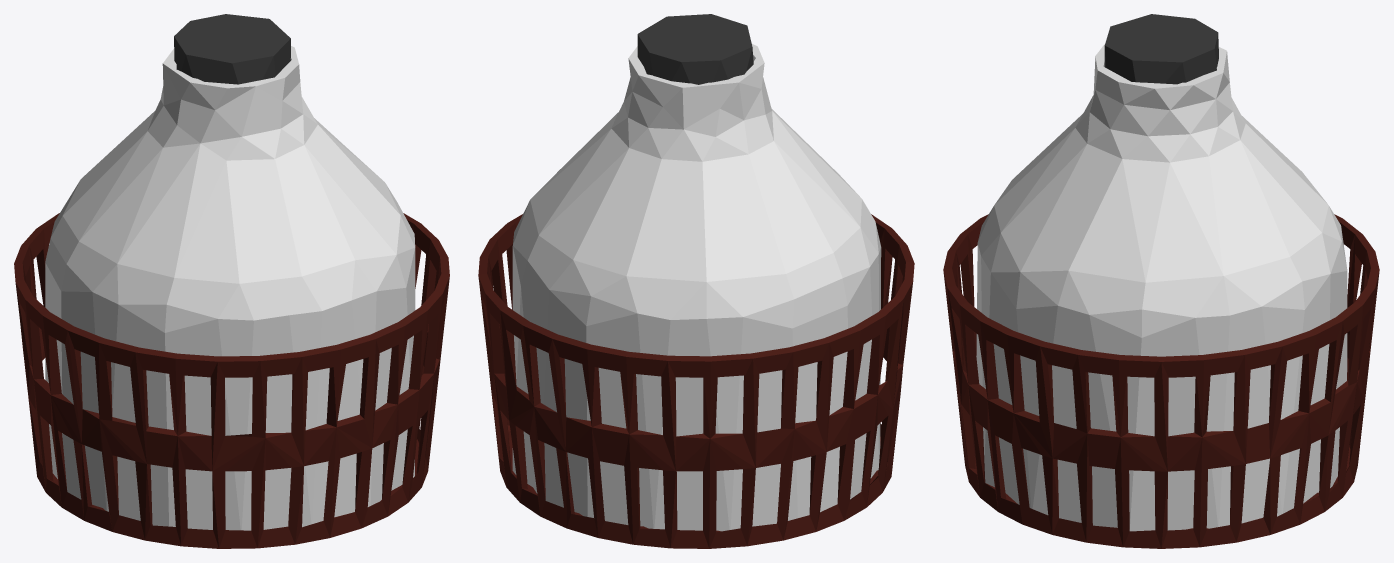
The model's file is Bottle_7.fbx.
The picture shows the model from 3 angles, left to right: view 1: azimuth 30°, elevation 25°; view 2: azimuth 150°, elevation 25°; view 3: azimuth 270°, elevation 25°; orthographic projection.
Visible parts, largest first — view 1: Bottle_Big; view 2: Bottle_Big; view 3: Bottle_Big.
Boxes of the visible parts, box(x1,y1,x2,y2) form: Bottle_Big: box(14, 14, 449, 548); Bottle_Big: box(478, 14, 914, 548); Bottle_Big: box(943, 14, 1379, 548).
Bounding box in the file's own units: 104 × 113 × 104.
